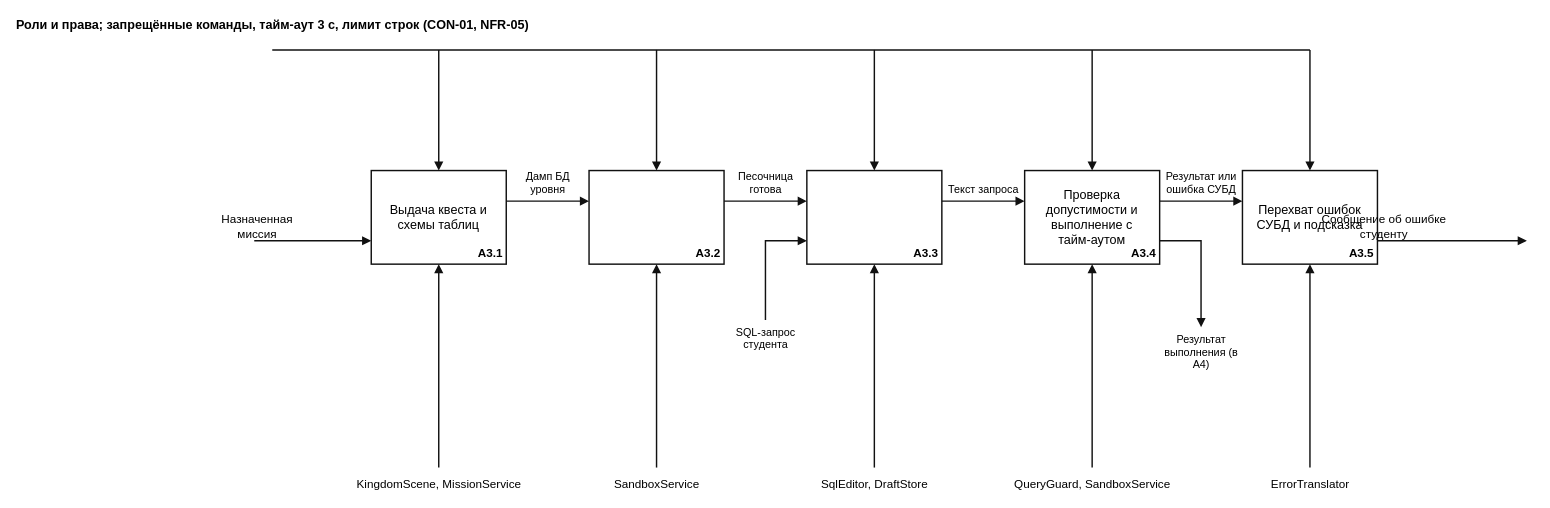
Image size: 1550x508. Some labels were removed from this diagram. The shapes that lost their labels are listed below. From the top down, each one's box as (x1, y1, x2, y2) in pixels, then its label:
(588, 169, 724, 264): Создание песочницы из дампа
(806, 169, 942, 264): Приём запроса и автосохранение
